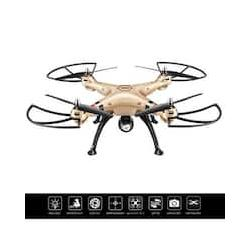drone: (25, 61, 226, 157)
